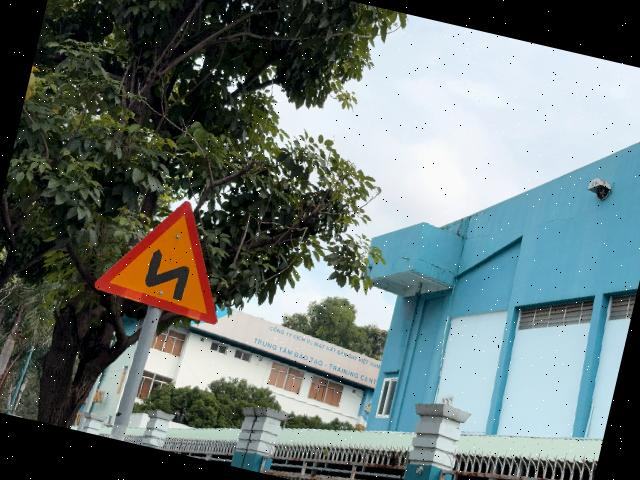nhieu-cho-ngoat-nguy-hiem-lien-tiep: (91, 183, 242, 325)
